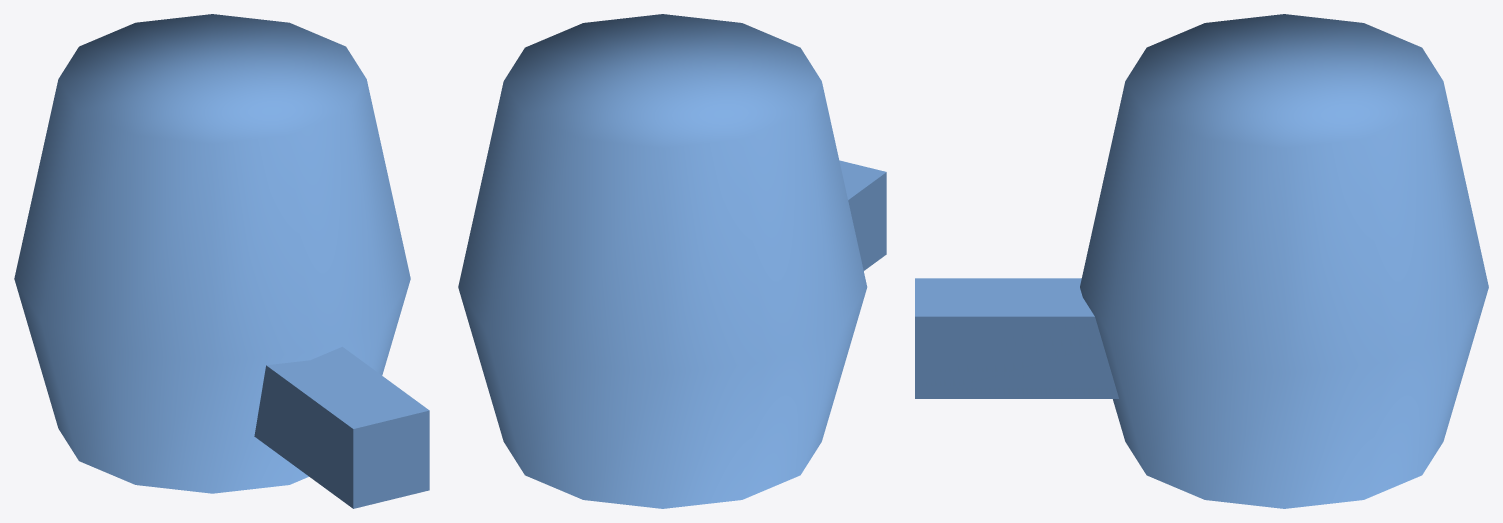
The model's file is 05_vacuum.glb.
3 views of the same model, side by side, from view 1: azimuth 30°, elevation 25°; view 2: azimuth 150°, elevation 25°; view 3: azimuth 270°, elevation 25° (orthographic). The views are drawn at different scales.
Visible parts, largest first — view 1: appliance_05_vacuum; view 2: appliance_05_vacuum; view 3: appliance_05_vacuum.
Part boxes in pixels (box(x1,y1,x2,y2)): appliance_05_vacuum: box(14, 14, 429, 508); appliance_05_vacuum: box(458, 14, 886, 508); appliance_05_vacuum: box(915, 14, 1488, 508).
Bounding box in the file's own units: 0.36 × 0.352 × 0.505.
